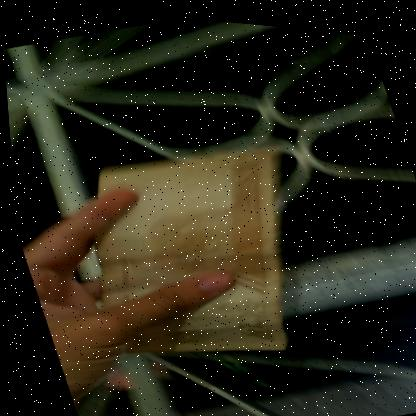five-back-vef: (53, 116, 335, 392)
